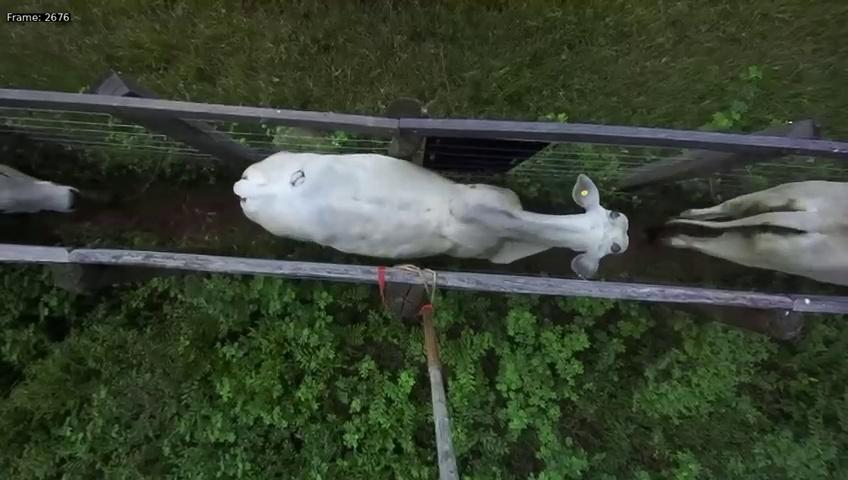cattle: (228, 127, 632, 280)
